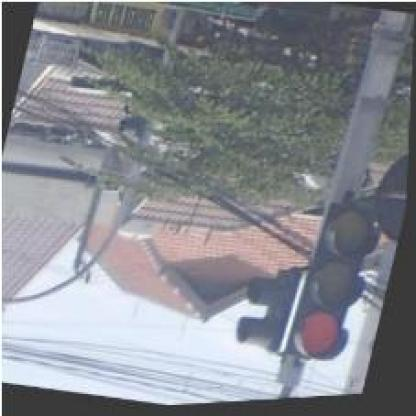red: (288, 204, 386, 371)
